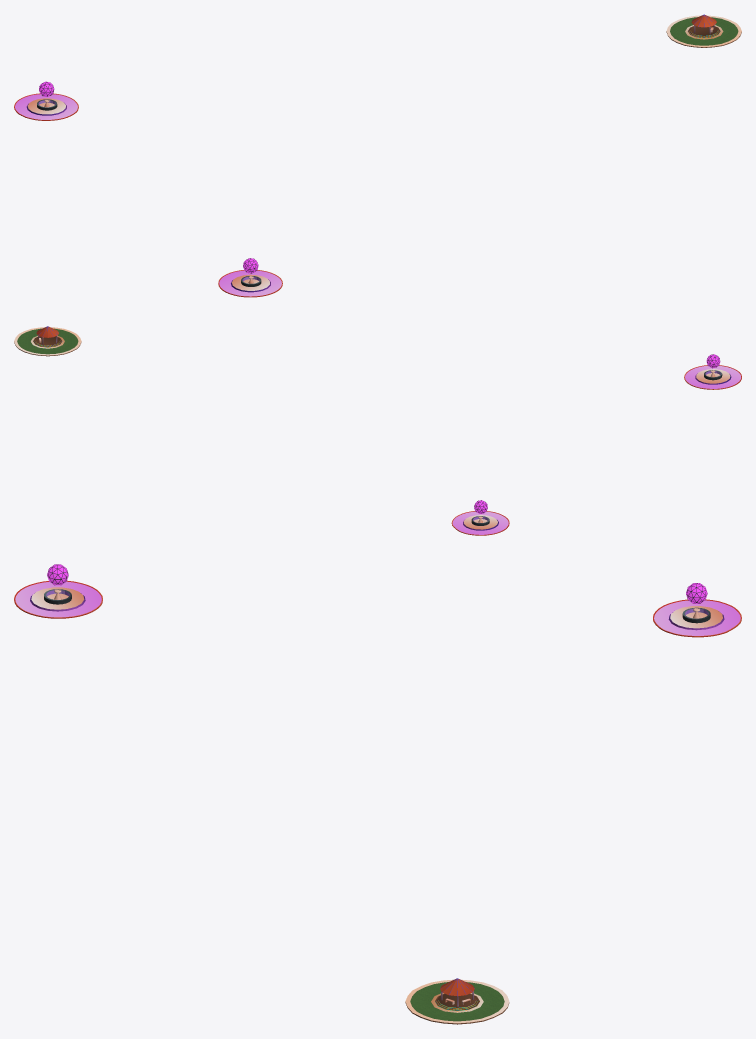
The model's file is Fountain.glb.
3 renders of one model, top to bottom at view 1: azimuth 30°, elevation 25°; view 2: azimuth 150°, elevation 25°; view 3: azimuth 270°, elevation 25°, orthographic. The views are drawn at different scales.
Parts seen in each view (by area): view 1: MetaVerse.4825; view 2: MetaVerse.4825; view 3: MetaVerse.4825.
Part boxes in pixels (x1,y1,x2,y2): MetaVerse.4825: (14,14,741,297); MetaVerse.4825: (14,326,741,535); MetaVerse.4825: (14,564,741,1024).
Bounding box in the file's own units: 178 × 6.58 × 123.
3 materials, 3 textured.
